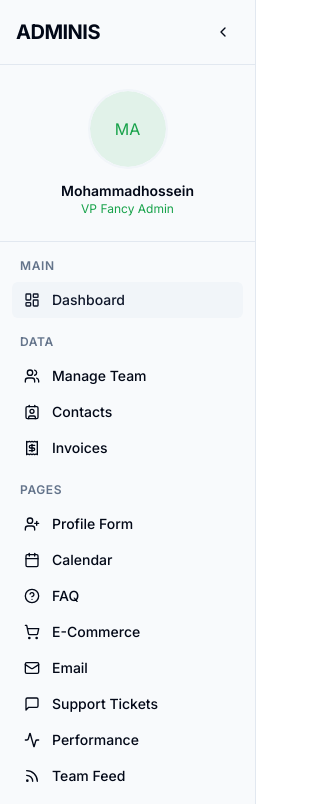
it: Sidebar › collapses and persists the state
The width and height of the screenshot is (320, 804).
Click the button named "Collapse sidebar" at [223, 32], box [207, 16, 239, 48]
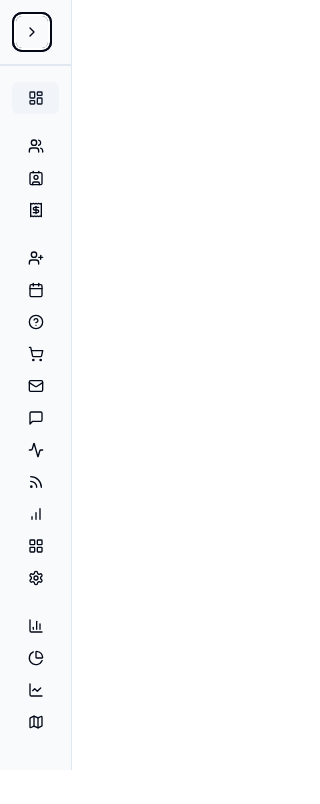
Check: the button named "Expand sidebar" is shown
Check: the text "Mohammadhossein" is gone
Click the button named "Expand sidebar" at [32, 32], box [16, 16, 48, 48]
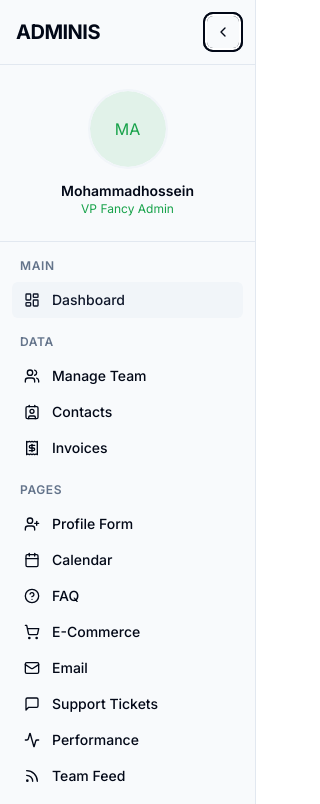
Check: the text "Mohammadhossein" is shown, box [61, 181, 194, 201]
